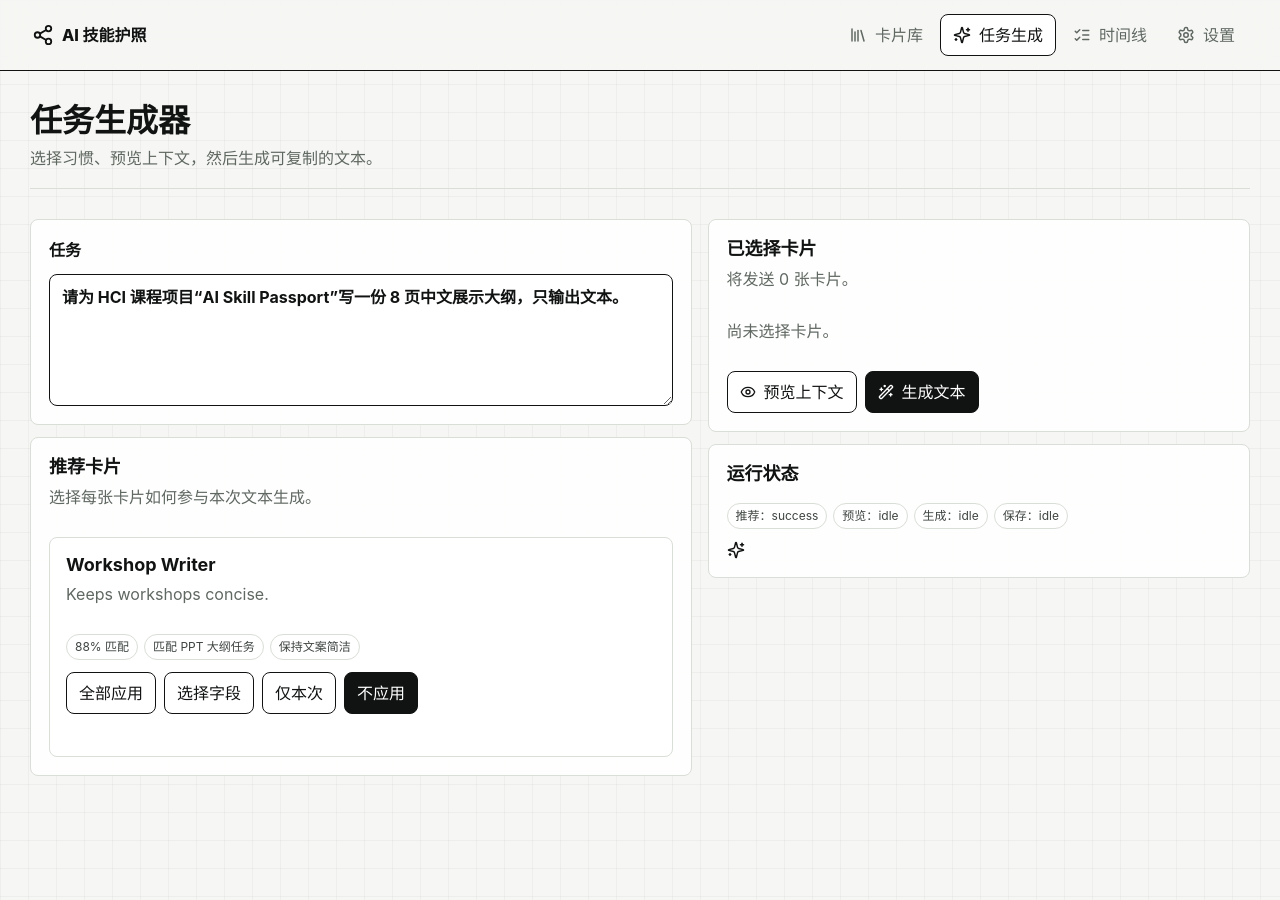
Test: App › generates with selected fields, displays fallback details, and saves the suggestion
Expected: the heading "Workshop Writer" is shown, [66, 554, 216, 575]
Click the button "选择字段" at (209, 693), box [164, 672, 254, 714]
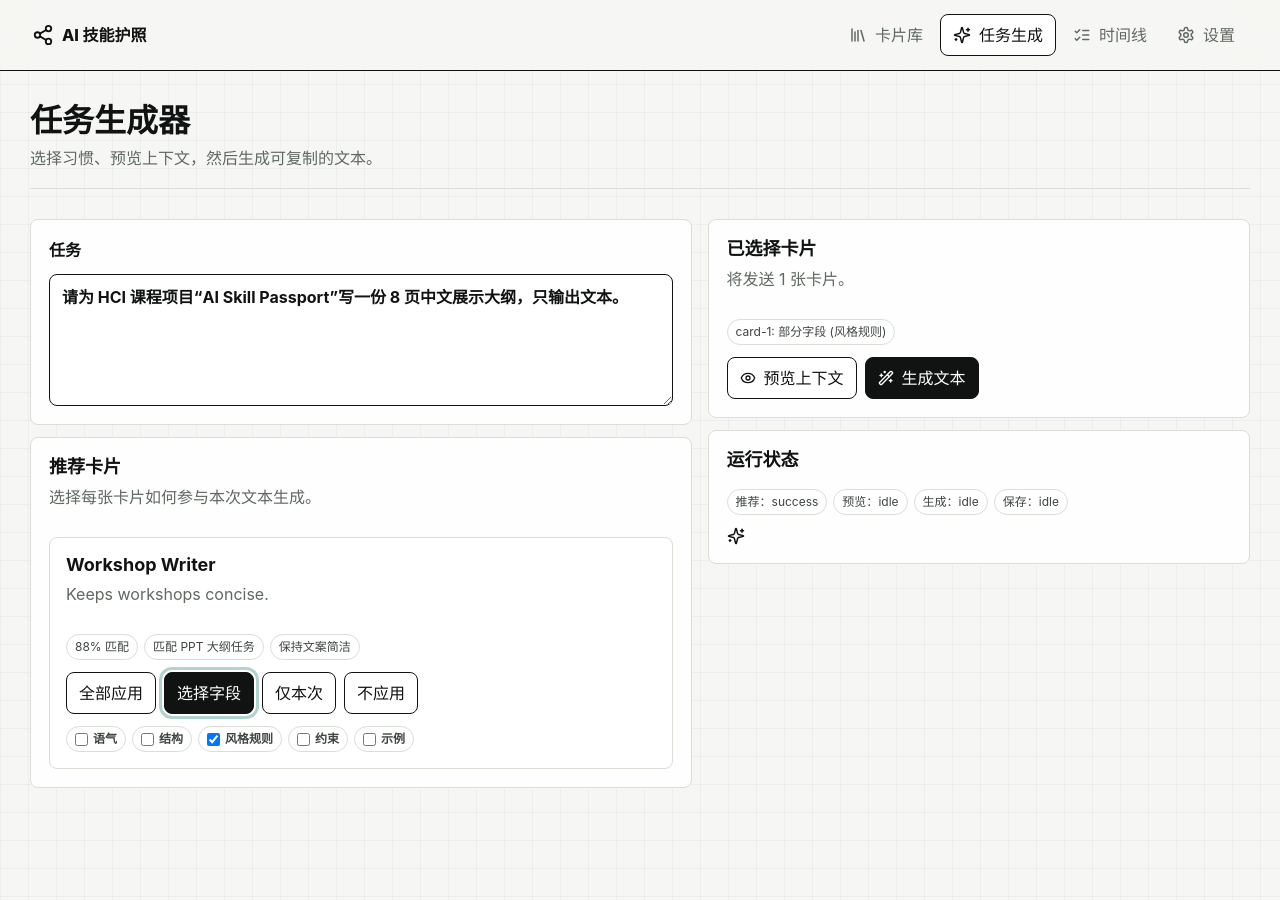
Result: the checkbox labelled "风格规则" is checked at [207, 733, 220, 746]
Click the checkbox labelled "示例" at (370, 739), box [363, 733, 376, 746]
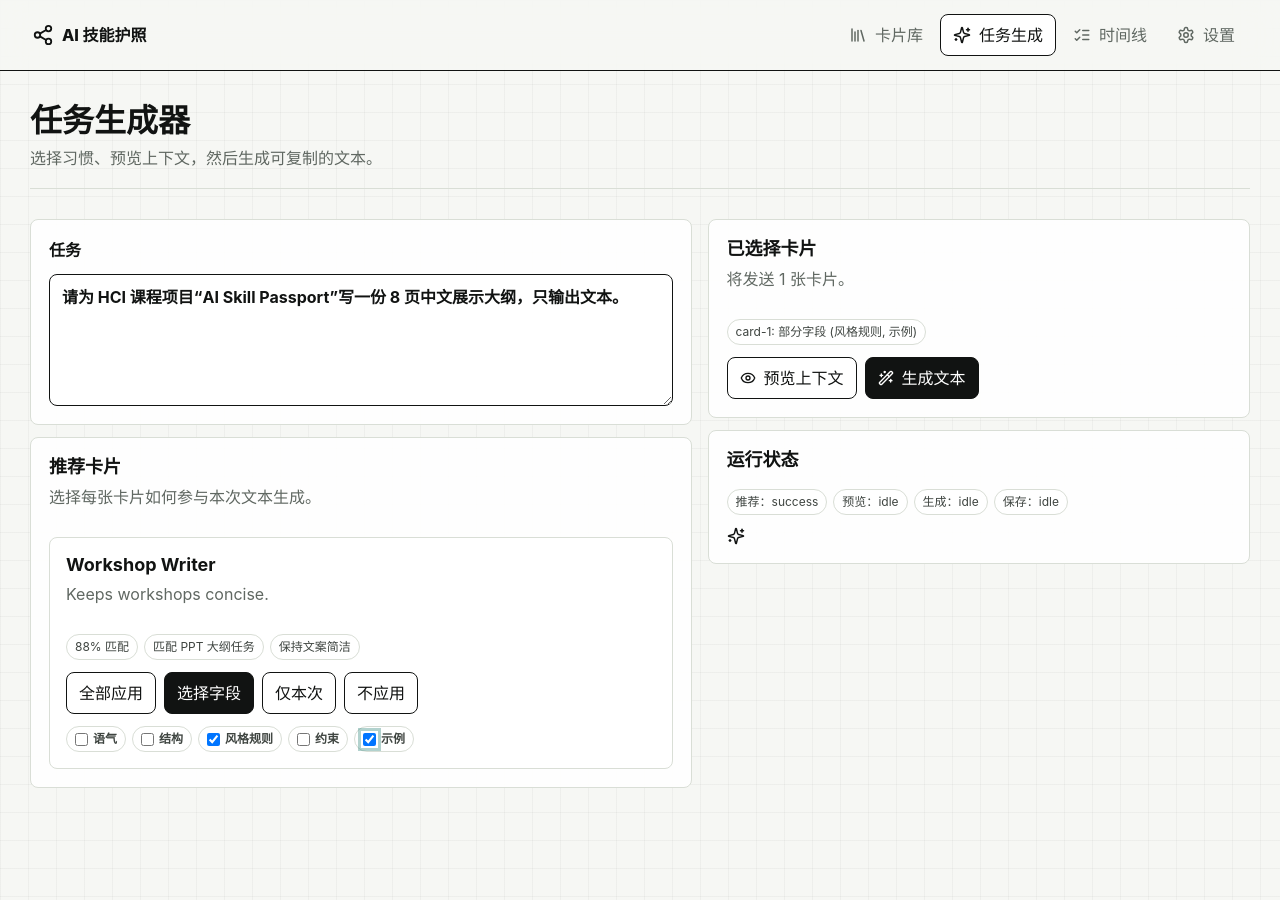
Click the button "生成文本" at (922, 378), box [864, 357, 978, 399]
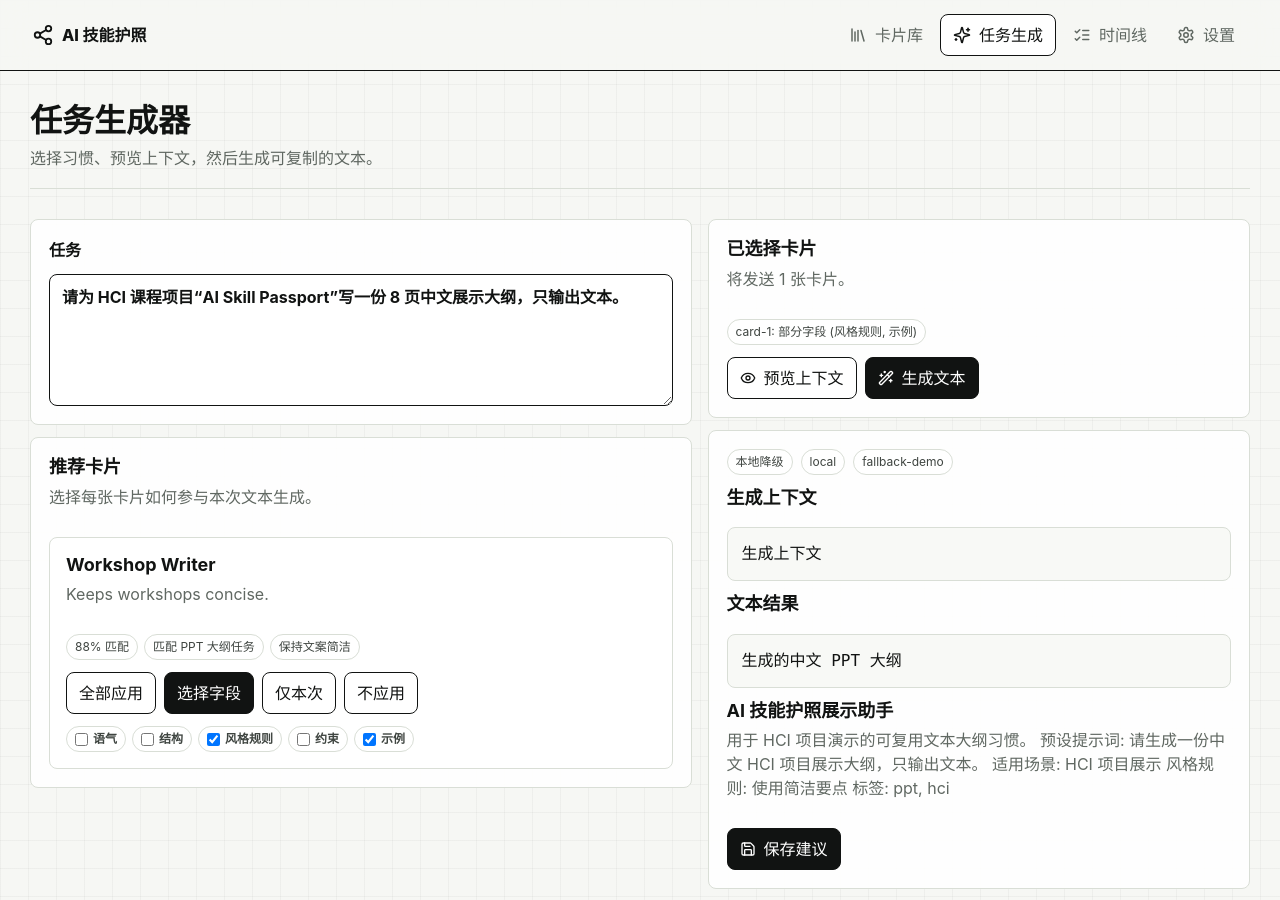
Result: the text "生成的中文 PPT 大纲" is shown at [726, 634, 1231, 688]
Result: the text "本地降级" is shown at [726, 449, 792, 475]
Result: the heading "AI 技能护照展示助手" is shown at [726, 700, 893, 721]
Click the button "保存建议" at (784, 849), box [726, 828, 840, 870]
(page scrolled)
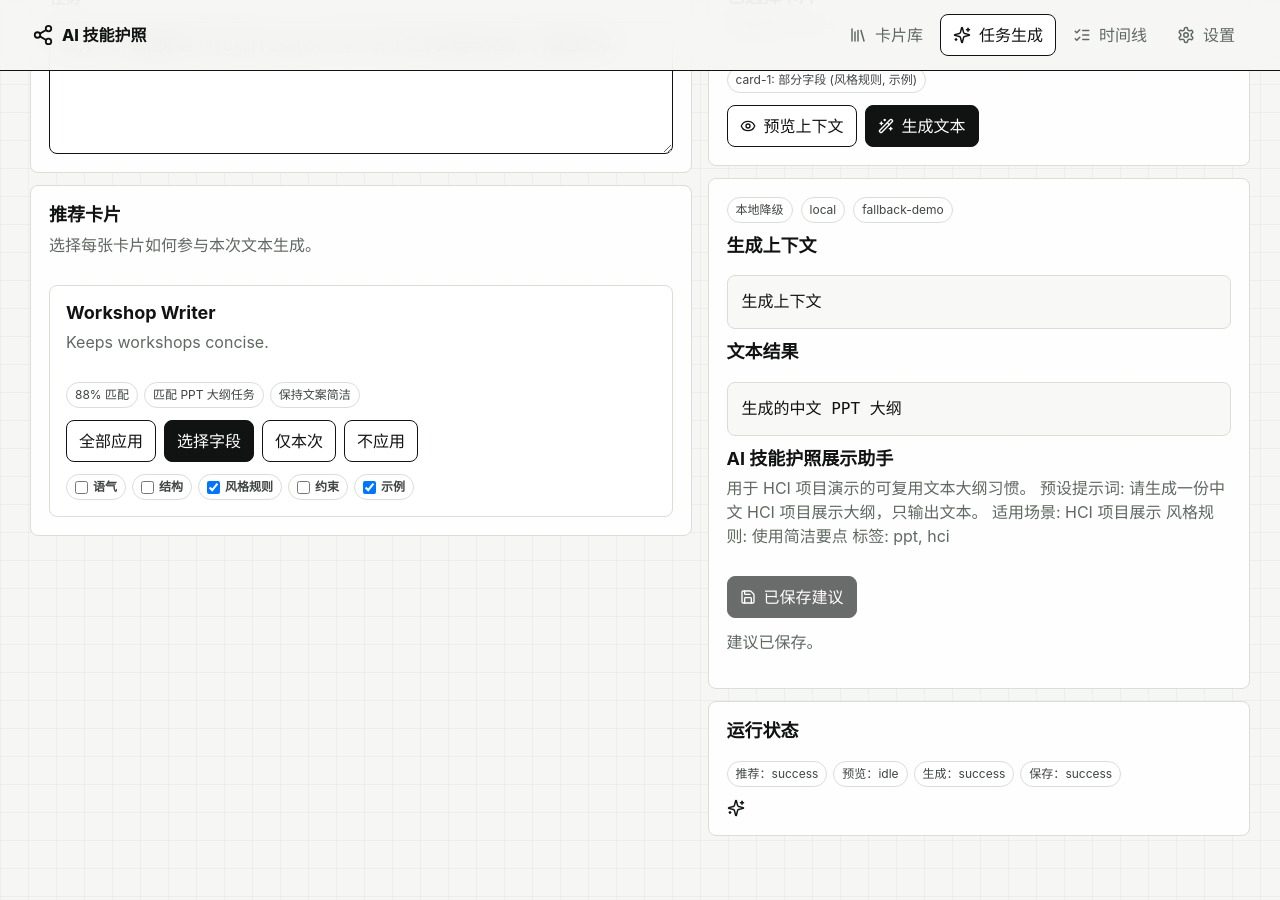
Result: the text "建议已保存。" is shown at [726, 632, 822, 652]
